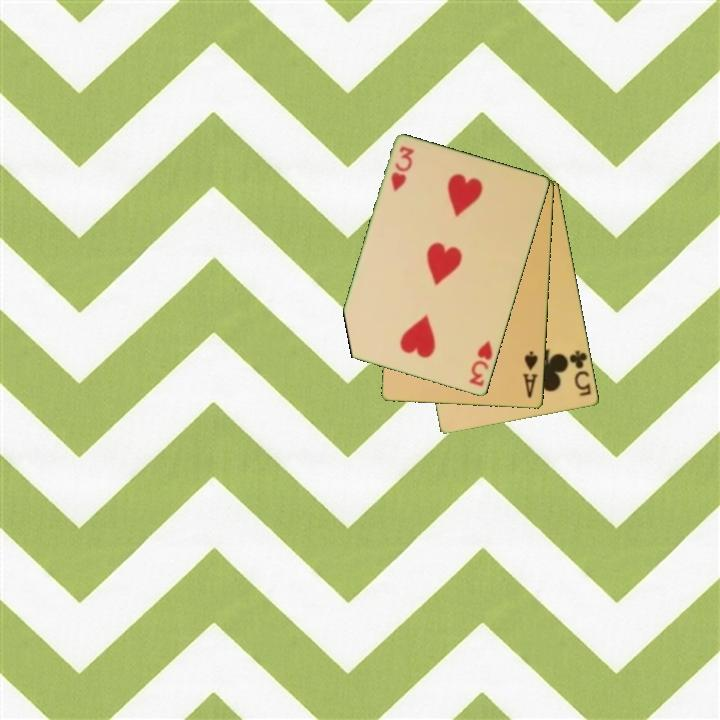3h: (466, 337, 496, 390), (387, 143, 417, 195)
5c: (566, 347, 594, 399)
As: (520, 348, 541, 401)
